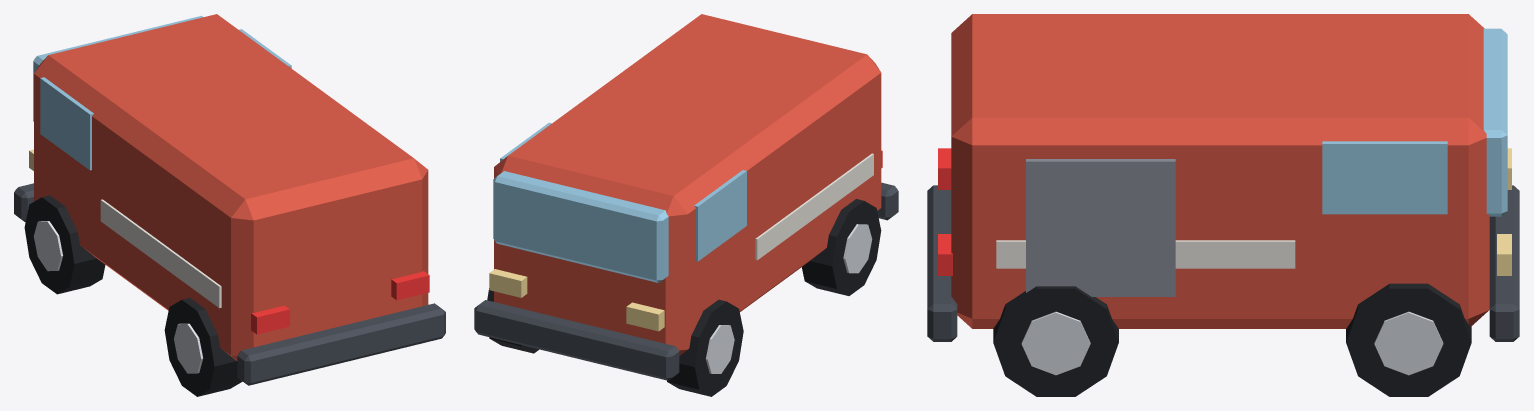
Rendered from small_van.glb.
The picture shows the model from 3 angles, left to right: view 1: azimuth 30°, elevation 25°; view 2: azimuth 150°, elevation 25°; view 3: azimuth 270°, elevation 25°; orthographic projection. The views are drawn at different scales.
Parts seen in each view (by area): view 1: Body, Wheel_0L, Wheel_1L; view 2: Body, Wheel_1L, Wheel_0L; view 3: Body, Wheel_0R, Wheel_1R.
Boxes of the visible parts, x1=… form: Body: x1=14, y1=14, x2=445, y2=385; Wheel_0L: x1=24, y1=195, x2=105, y2=294; Wheel_1L: x1=164, y1=298, x2=242, y2=396; Body: x1=474, y1=14, x2=898, y2=380; Wheel_1L: x1=802, y1=199, x2=881, y2=295; Wheel_0L: x1=667, y1=299, x2=743, y2=396; Body: x1=927, y1=14, x2=1519, y2=341; Wheel_0R: x1=1346, y1=283, x2=1471, y2=396; Wheel_1R: x1=993, y1=286, x2=1118, y2=396.
Bounding box in the file's own units: 1.06 × 0.9797 × 1.98.
Materials: 1 (1 with a texture image).
